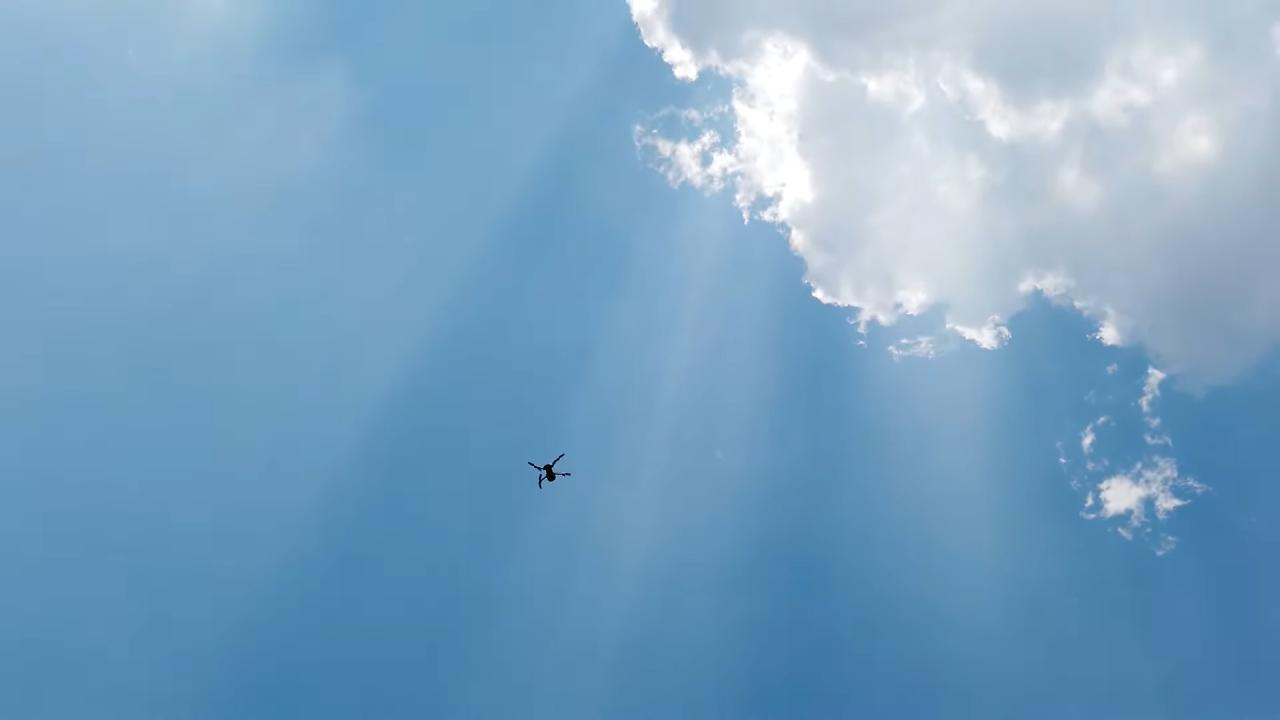Drone: (519, 443, 584, 500)
